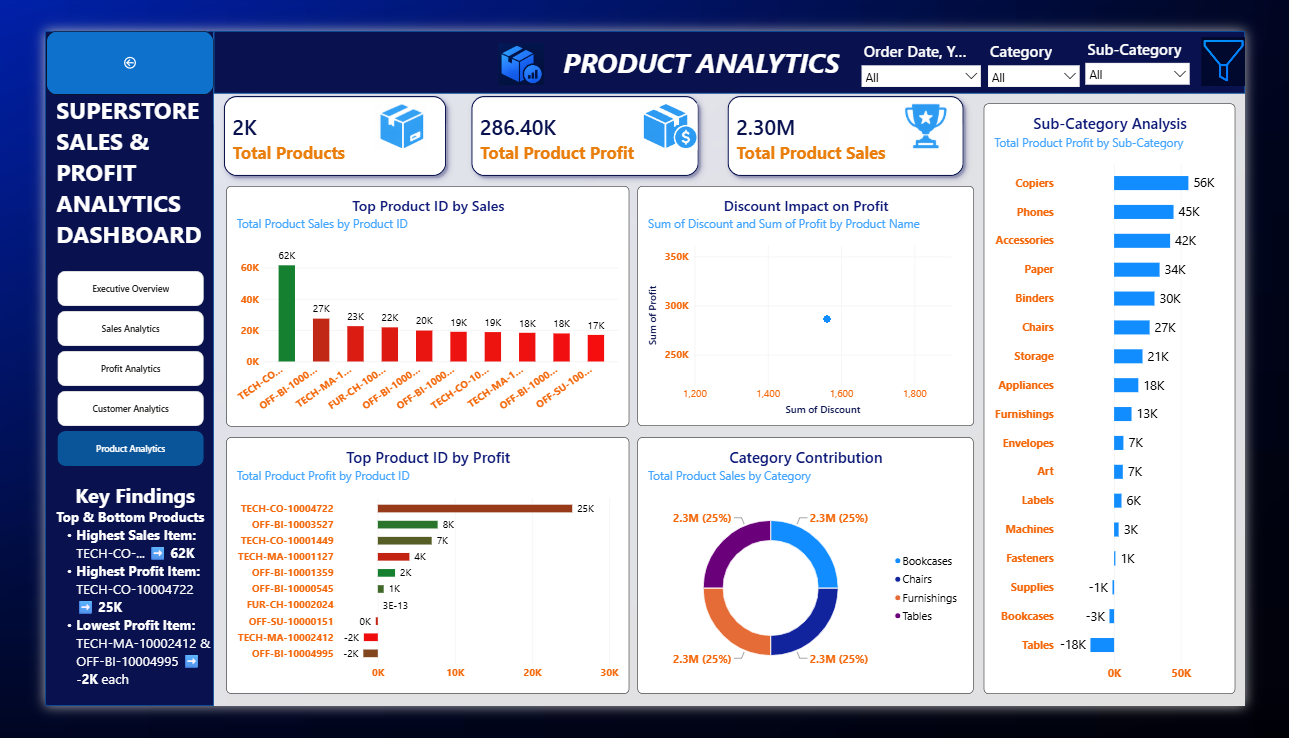

The page's visual inventory and layout, read from the dashboard file:
{"tool":"powerbi","page":{"name":"Product Analytics","canvas":[1920,1080],"ordinal":4},"visuals":[{"type":"shape","box":[0,0,270,1080],"z":0},{"type":"pageNavigator","box":[20,384,234,312],"z":1000},{"type":"textbox","box":[18,100,252,256],"z":2000},{"type":"shape","box":[270,0,1650,100],"z":3000},{"type":"textbox","box":[658,20,784,80],"z":4000},{"type":"slicer","fields":{"Values":["Data.Order Date.Variation.Date Hierarchy.Year","Data.Order Date.Variation.Date Hierarchy.Year1","Data.Order Date.Variation.Date Hierarchy.Quarter","Data.Order Date.Variation.Date Hierarchy.Month","Data.Order Date.Variation.Date Hierarchy.Day"]},"box":[1302,16,200,84],"z":5000},{"type":"cardVisual","fields":{"Data":["Product_details.Total Products"]},"box":[270,88,388,160],"z":6000},{"type":"cardVisual","fields":{"Data":["Product_details.Total Product Profit"]},"box":[666,88,396,160],"z":7000},{"type":"cardVisual","fields":{"Data":["Product_details.Total Product Sales"]},"box":[1076,88,410,160],"z":8000},{"type":"clusteredColumnChart","title":"Top Product ID by Sales","fields":{"Category":["Data.Product ID"],"Y":["Product_details.Total Product Sales"]},"box":[290,247.5,645,385],"z":9000},{"type":"clusteredBarChart","title":"Top Product ID by Profit","fields":{"Category":["Data.Product ID"],"Y":["Product_details.Total Product Profit"]},"box":[290,650,645,410],"z":10000},{"type":"donutChart","title":"Category Contribution","fields":{"Y":["Product_details.Total Product Sales"],"Category":["Category (TreeMap - Calculations).Category"]},"box":[947.5,650,537.5,410],"z":11000},{"type":"barChart","title":"Sub-Category Analysis","fields":{"Category":["Abbreviations.Sub-Category"],"Y":["Product_details.Total Product Profit"]},"box":[1502.5,115,402.5,945],"z":12000},{"type":"scatterChart","title":"Discount Impact on Profit","fields":{"X":["Sum(Data.Discount)"],"Y":["Sum(Data.Profit)"],"Category":["Product_details.Product Name"]},"box":[948,248,538,384],"z":13000},{"type":"actionButton","box":[2,0,268,102],"z":14000},{"type":"slicer","fields":{"Values":["Category (TreeMap - Calculations).Category"]},"box":[1504,16,156,84],"z":15000},{"type":"slicer","fields":{"Values":["Abbreviations.Sub-Category"]},"box":[1660,12,176,76],"z":16000},{"type":"image","box":[506,116,126,74],"z":17000},{"type":"image","box":[936,116,126,74],"z":18000},{"type":"image","box":[1346,116,126,74],"z":19000},{"type":"image","box":[712,20,100,66],"z":20000},{"type":"image","box":[1850,0,70,98],"z":21000},{"type":"textbox","box":[18,720,252,360],"z":22000}]}

Visuals, with their boxes in screenshot pixels (x1, y1, x2, y2), scaled from the page's 1920x1080 canvas onto the 1289x738 screenshot:
shape: 0,0,181,737
pageNavigator: 13,262,171,476
textbox: 12,68,181,243
shape: 181,0,1288,68
textbox: 442,14,968,68
slicer - Data.Order Date.Variation.Date Hierarchy.Year x Data.Order Date.Variation.Date Hierarchy.Year1: 874,11,1008,68
cardVisual - Product_details.Total Products: 181,60,442,169
cardVisual - Product_details.Total Product Profit: 447,60,713,169
cardVisual - Product_details.Total Product Sales: 722,60,998,169
"Top Product ID by Sales" clusteredColumnChart: 195,169,628,432
"Top Product ID by Profit" clusteredBarChart: 195,444,628,724
"Category Contribution" donutChart: 636,444,997,724
"Sub-Category Analysis" barChart: 1009,79,1279,724
"Discount Impact on Profit" scatterChart: 636,169,998,432
actionButton: 1,0,181,70
slicer - Category (TreeMap - Calculations).Category: 1010,11,1114,68
slicer - Abbreviations.Sub-Category: 1114,8,1233,60
image: 340,79,424,130
image: 628,79,713,130
image: 904,79,988,130
image: 478,14,545,59
image: 1242,0,1288,67
textbox: 12,492,181,737
